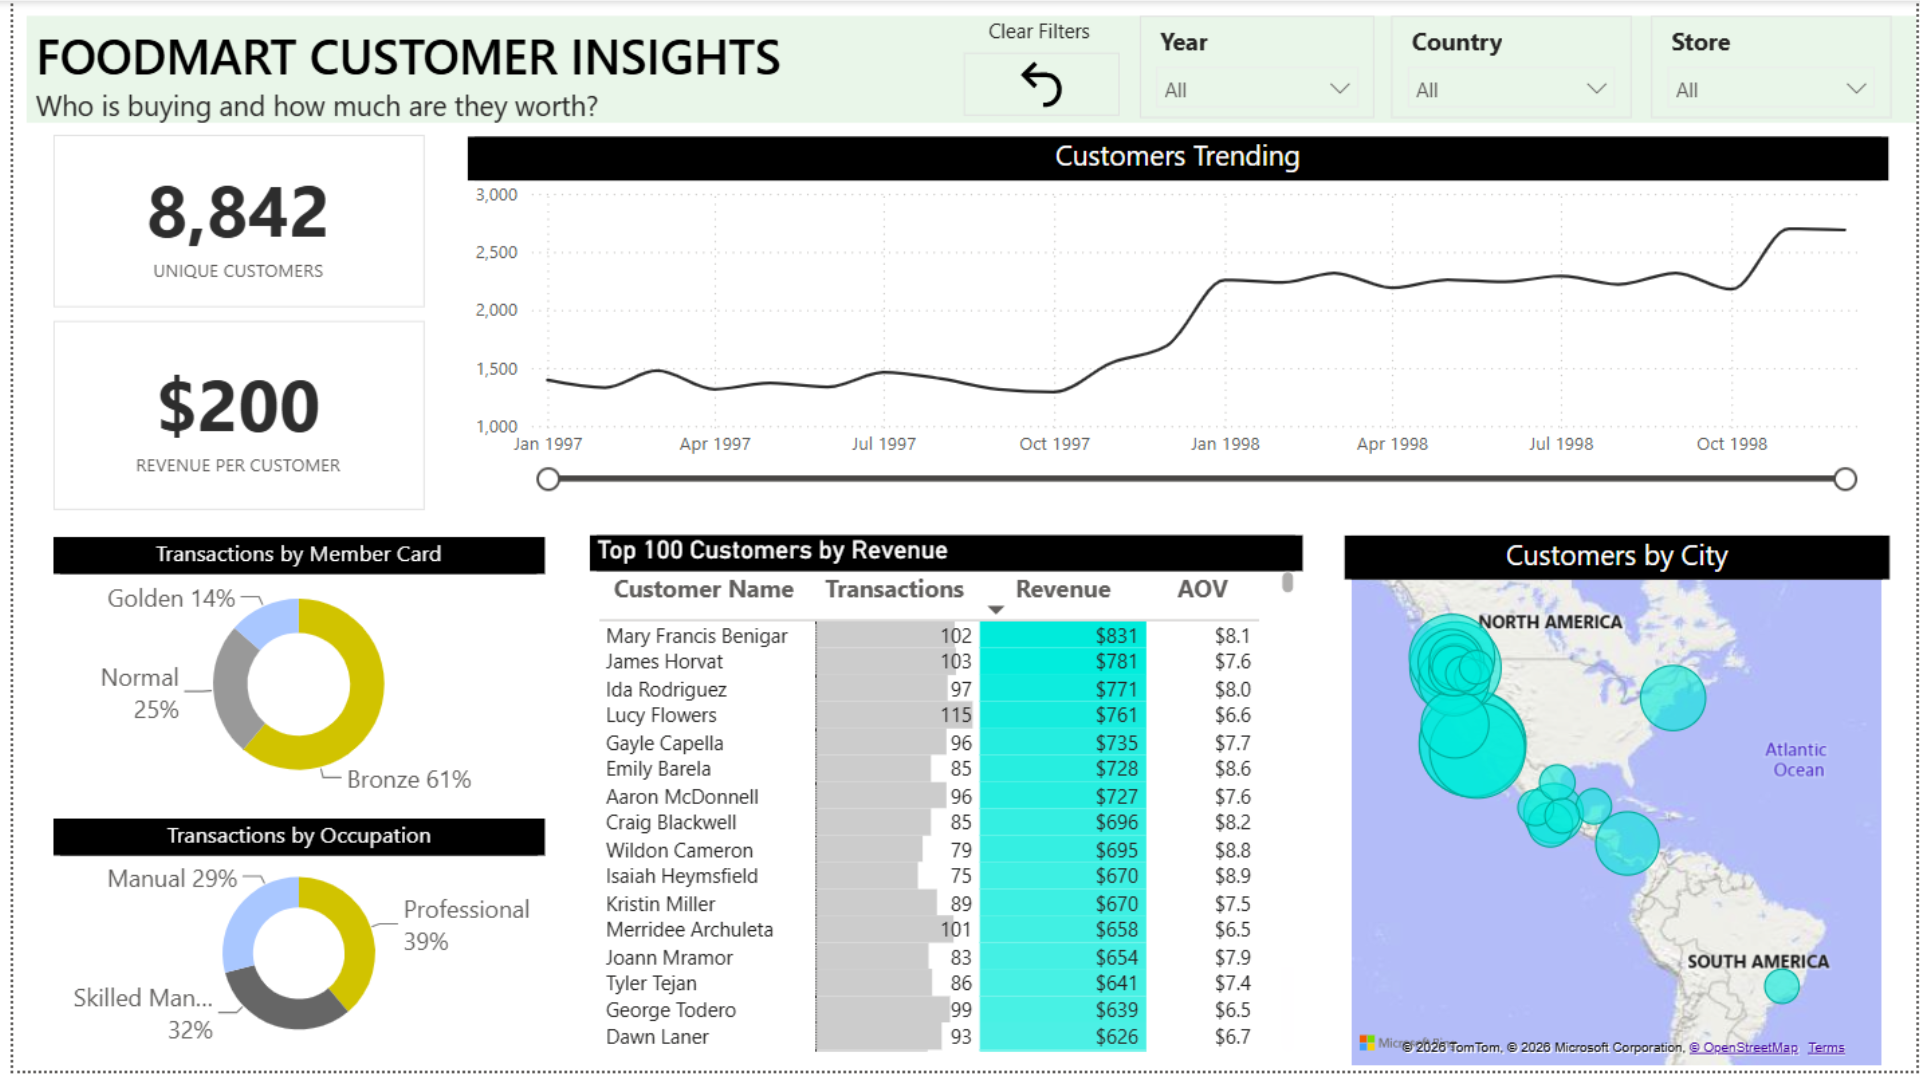

What the dashboard file says about the page in this screenshot:
{"tool":"powerbi","page":{"name":"Customer Insights","canvas":[1280,720],"ordinal":2},"visuals":[{"type":"shape","box":[8.6,9.8,1270.5,72.1],"z":0},{"type":"lineChart","title":"Customers Trending","fields":{"Category":["Calendar_Lookup.Start of Month"],"Y":["Customer_Lookup.Unique Customers"]},"box":[305.9,90.9,955.1,240.9],"z":1000},{"type":"cardVisual","fields":{"Data":["Customer_Lookup.Unique Customers"]},"box":[26.9,90.5,249.5,116.2],"z":2000},{"type":"cardVisual","fields":{"Data":["Measure Table.Revenue Per Customer"]},"box":[26.9,215.2,249.5,127.2],"z":3000},{"type":"donutChart","title":"Transactions by Occupation","fields":{"Category":["Customer_Lookup.occupation"],"Y":["Measure Table.Total Transactions"]},"box":[27.4,549.7,330.4,161.6],"z":4000},{"type":"donutChart","title":"Transactions by Member Card","fields":{"Category":["Customer_Lookup.member_card"],"Y":["Measure Table.Total Transactions"]},"box":[26.9,360.7,330.2,178.5],"z":5000},{"type":"tableEx","title":"Top 100 Customers by Revenue","fields":{"Values":["Customer_Lookup.full_name","Measure Table.Total Transactions","Measure Table.Total Revenue","Measure Table.Avg Order Value"]},"box":[388.1,359.2,479,352],"z":6000},{"type":"slicer","fields":{"Values":["Calendar_Lookup.Year"]},"box":[756.9,9.8,157.7,68.5],"z":7000},{"type":"slicer","fields":{"Values":["Customer_Lookup.customer_country"]},"box":[927,9.8,161.4,68.5],"z":8000},{"type":"textbox","box":[9.8,9.8,539.3,80.7],"z":9000},{"type":"map","title":"Customers by City","fields":{"Category":["Store_Lookup.store_city"],"Size":["Customer_Lookup.Total Customers"]},"box":[894.5,359.2,366.5,360.7],"z":10000},{"type":"actionButton","title":"Clear Filters","box":[639.5,35.5,105.2,42.8],"z":11000},{"type":"textbox","box":[639.5,6.1,101.5,29.3],"z":12000},{"type":"slicer","fields":{"Values":["Store_Lookup.store_name"]},"box":[1100.8,9.8,161.4,68.5],"z":12001}]}

Visuals, with their boxes in screenshot pixels (x1, y1, x2, y2), scaled from the page's 1280x720 canvas onto the 1920x1080 screenshot:
shape: l=13, t=15, r=1919, b=123
"Customers Trending" lineChart: l=459, t=136, r=1892, b=498
cardVisual - Customer_Lookup.Unique Customers: l=40, t=136, r=415, b=310
cardVisual - Measure Table.Revenue Per Customer: l=40, t=323, r=415, b=514
"Transactions by Occupation" donutChart: l=41, t=825, r=537, b=1067
"Transactions by Member Card" donutChart: l=40, t=541, r=536, b=809
"Top 100 Customers by Revenue" tableEx: l=582, t=539, r=1301, b=1067
slicer - Calendar_Lookup.Year: l=1135, t=15, r=1372, b=117
slicer - Customer_Lookup.customer_country: l=1390, t=15, r=1633, b=117
textbox: l=15, t=15, r=824, b=136
"Customers by City" map: l=1342, t=539, r=1892, b=1079
"Clear Filters" actionButton: l=959, t=53, r=1117, b=117
textbox: l=959, t=9, r=1112, b=53
slicer - Store_Lookup.store_name: l=1651, t=15, r=1893, b=117
